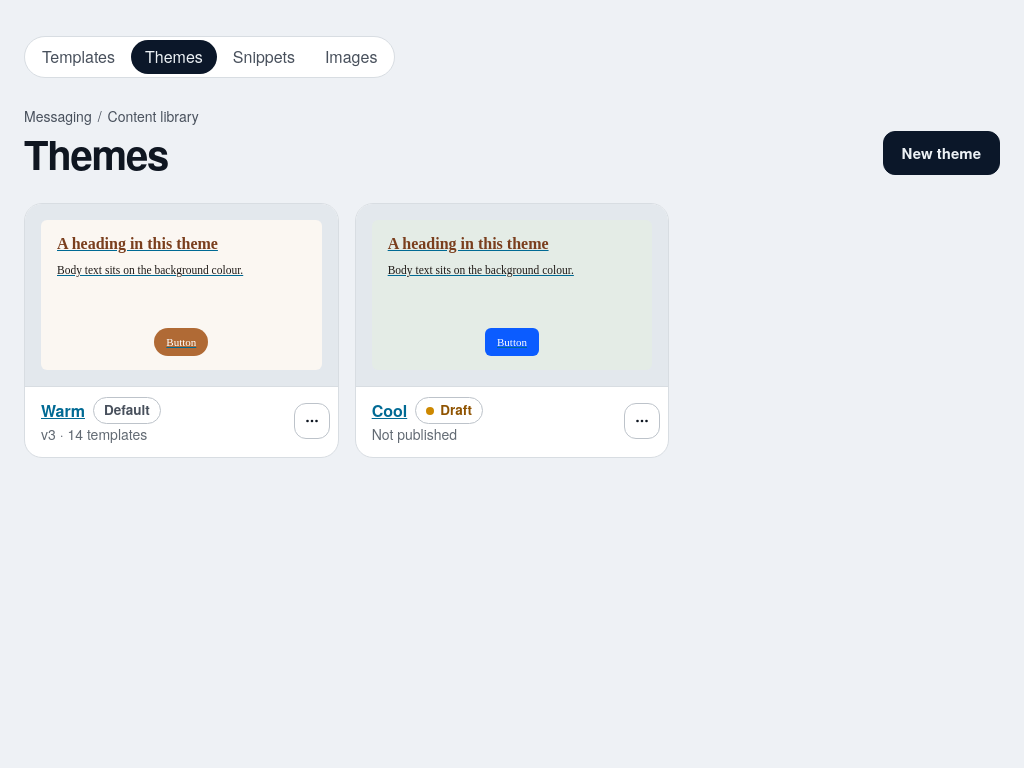
Test: the theme list › creates a theme from a name and reports a clash
This screenshot has width=1024, height=768.
Click the button "New theme". click: (941, 153)
box: x1=883 y1=131 x2=1000 y2=175
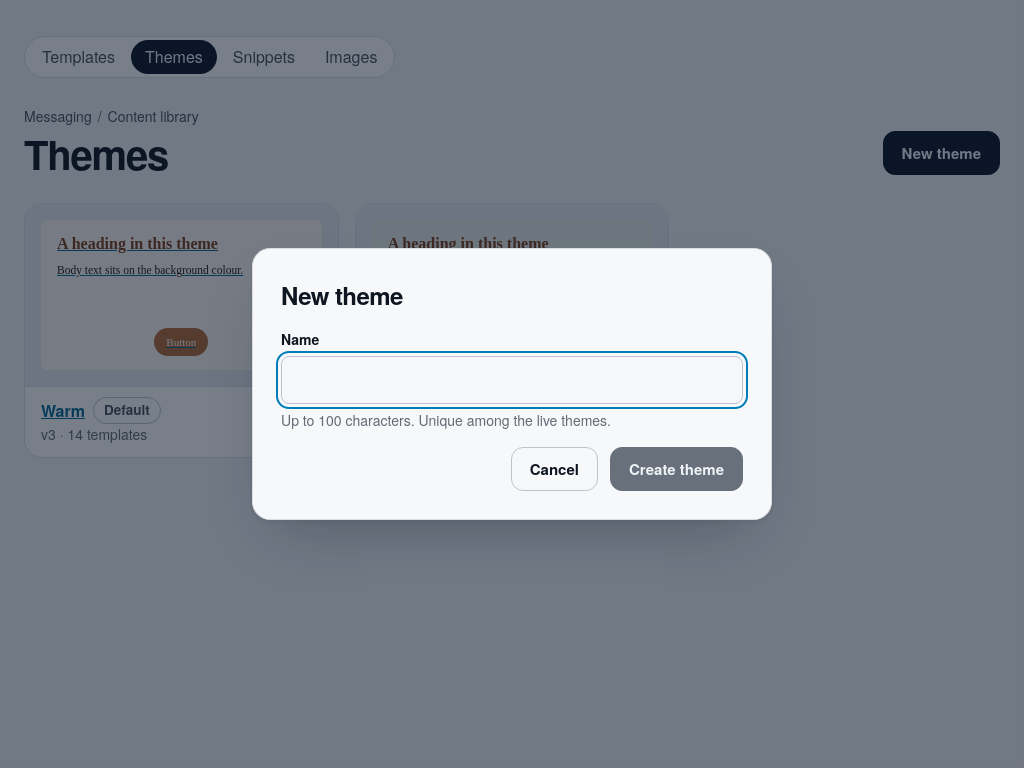
Type "Warm" into the field labelled "Name". click: (512, 380)
box: x1=281 y1=356 x2=743 y2=404
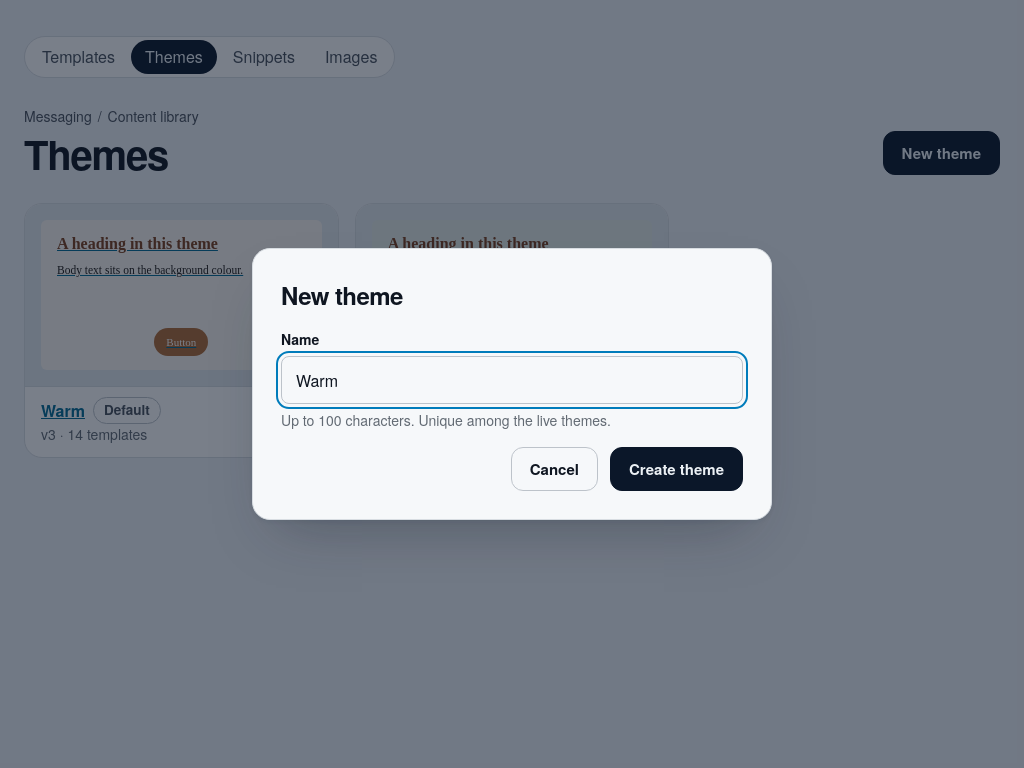
Click the button "Create theme". click: (676, 469)
box: x1=610 y1=447 x2=743 y2=491
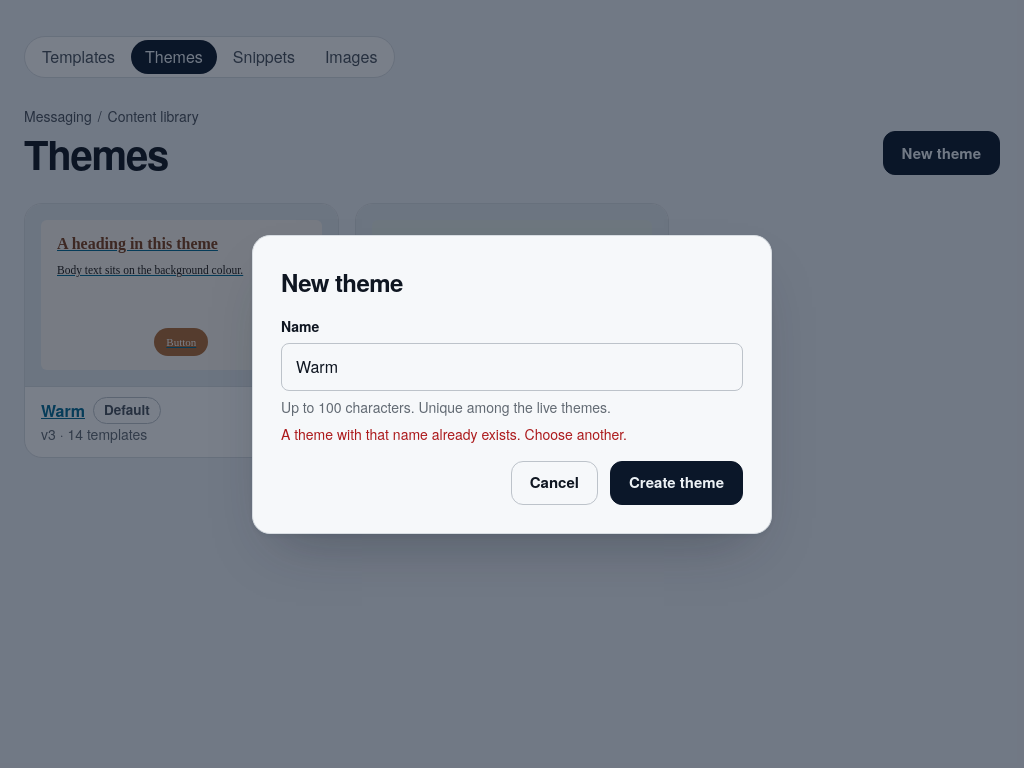
Result: the text "A theme with that name already exists. Choose another." is shown at x1=281 y1=424 x2=627 y2=444
